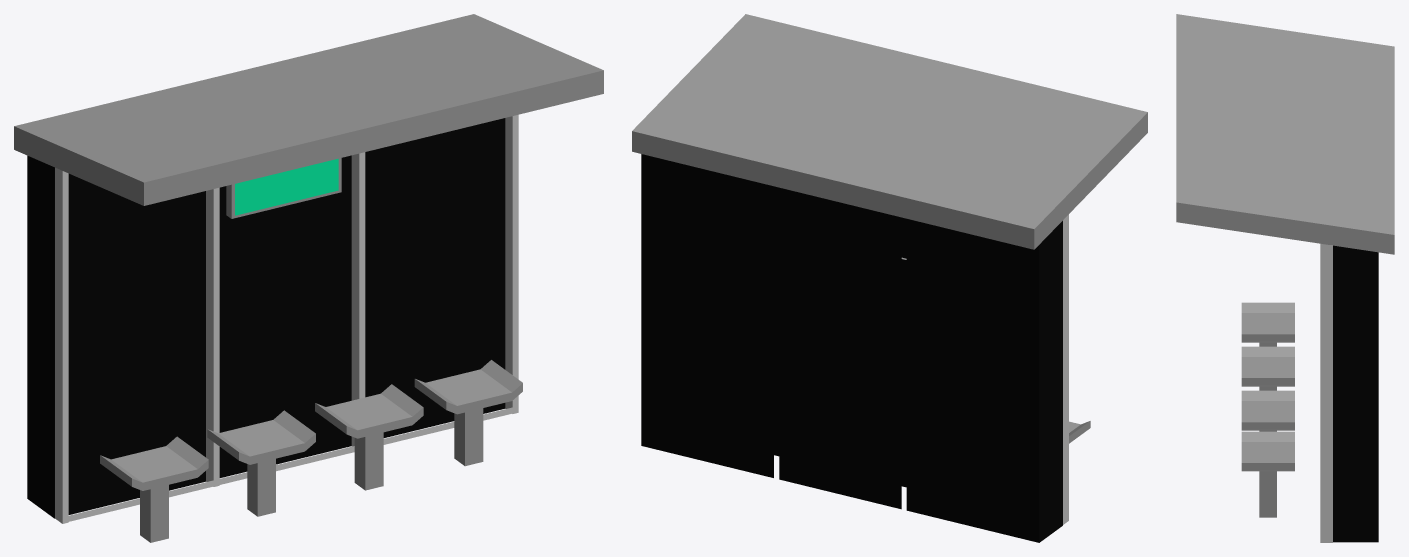
The model's file is PontoDeOnibusGrandeLOD0.fbx.
The picture shows the model from 3 angles, left to right: view 1: azimuth 30°, elevation 25°; view 2: azimuth 150°, elevation 25°; view 3: azimuth 270°, elevation 25°; orthographic projection. The views are drawn at different scales.
Visible parts, largest first — view 1: PontoDeOnibusLargoLOD0; view 2: PontoDeOnibusLargoLOD0; view 3: PontoDeOnibusLargoLOD0.
Boxes of the visible parts, <box> form: PontoDeOnibusLargoLOD0: <box>14,14,603,542</box>; PontoDeOnibusLargoLOD0: <box>632,14,1147,542</box>; PontoDeOnibusLargoLOD0: <box>1176,14,1394,542</box>.
Size of the model in its own units: 452 by 385 by 221.
